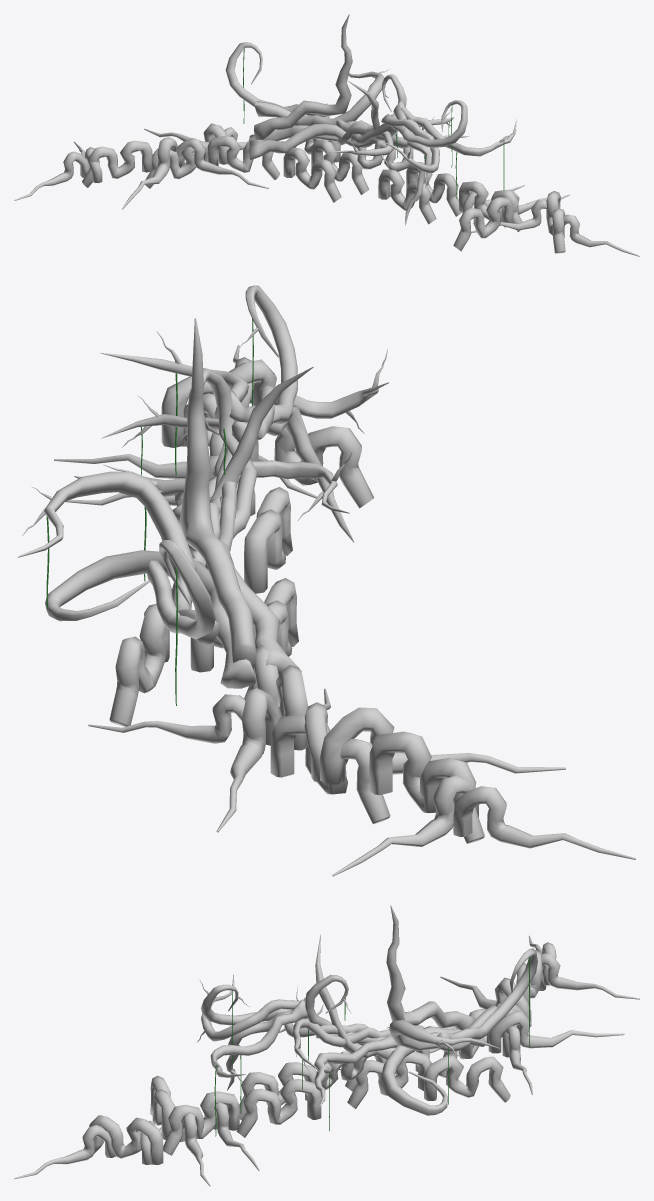
Rendered from Plants_Mutant_V4.fbx.
3 views of the same model, one above another, from view 1: azimuth 30°, elevation 25°; view 2: azimuth 150°, elevation 25°; view 3: azimuth 270°, elevation 25° (orthographic). The views are drawn at different scales.
Parts seen in each view (by area): view 1: Plants, Lianas; view 2: Plants, Lianas; view 3: Plants, Lianas.
Boxes of the visible parts, bbox=[...] form: Plants: bbox=[14, 14, 639, 256]; Lianas: bbox=[243, 48, 504, 198]; Plants: bbox=[18, 285, 635, 876]; Lianas: bbox=[46, 318, 253, 705]; Plants: bbox=[14, 905, 639, 1186]; Lianas: bbox=[214, 957, 529, 1136].
Size of the model in its own units: 1948 by 781 by 2068.
